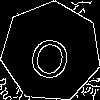O: (26, 27, 76, 83)
